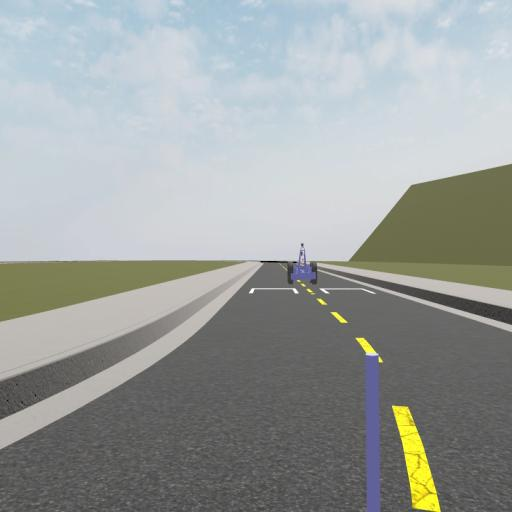ERP-42: (287, 244, 318, 284)
